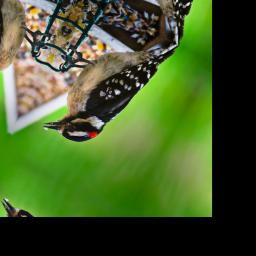Woodpecker: (26, 0, 179, 165)
